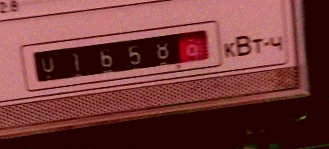0: (36, 50, 56, 73)
1: (66, 47, 84, 72)
5: (124, 40, 143, 66)
6: (95, 43, 116, 69)
8: (152, 35, 172, 60)
9: (181, 39, 200, 62)
screen: (15, 11, 228, 98)
